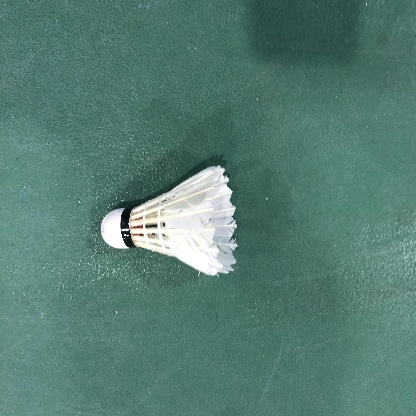ball_single: (101, 166, 238, 276)
